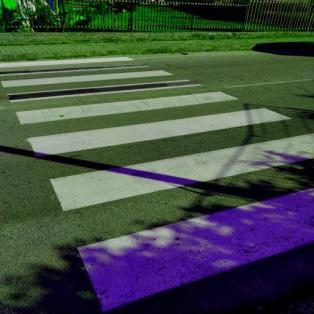Paso de Cebra: (13, 88, 293, 164)
